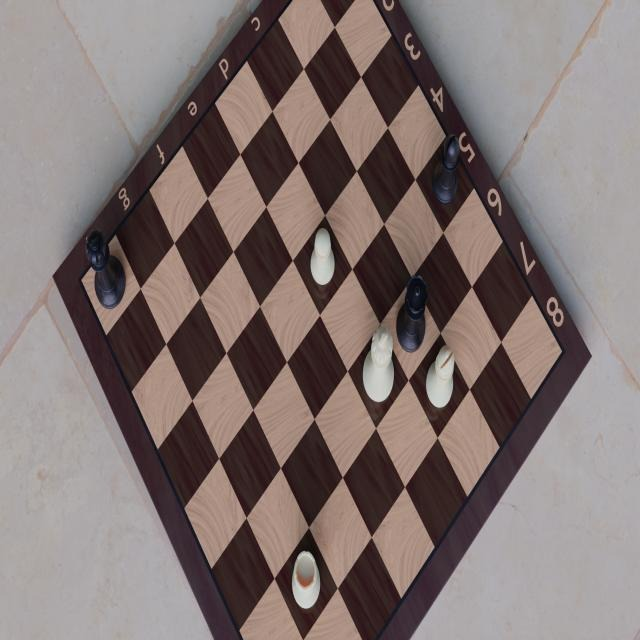black-bishop: (430, 131, 461, 207)
black-king: (84, 225, 128, 311)
black-queen: (394, 270, 429, 355)
white-bishop: (424, 342, 457, 418)
white-king: (361, 319, 396, 405)
white-pawn: (306, 220, 337, 287)
white-rook: (290, 550, 322, 614)
